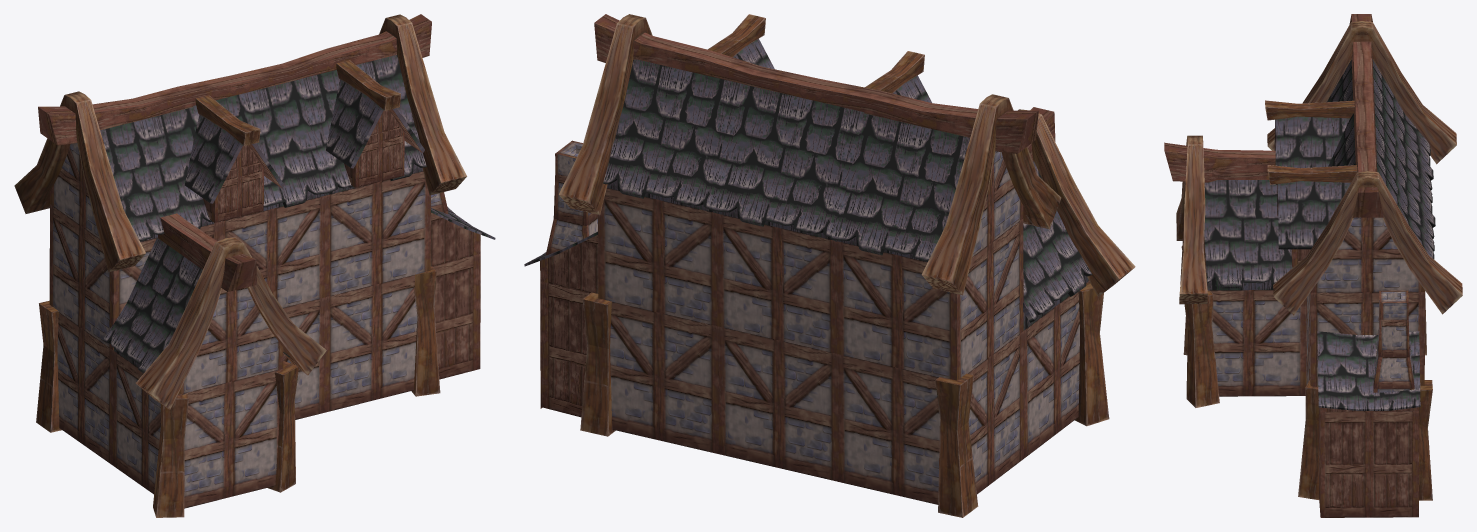
Rendered from house07.fbx.
3 views of the same model, side by side, from view 1: azimuth 30°, elevation 25°; view 2: azimuth 150°, elevation 25°; view 3: azimuth 270°, elevation 25° (orthographic). The views are drawn at different scales.
Parts seen in each view (by area): view 1: house07; view 2: house07; view 3: house07.
Part boxes in pixels (<box>): house07: <box>14,14,495,517</box>; house07: <box>524,14,1135,517</box>; house07: <box>1164,14,1462,517</box>.
Bounding box in the file's own units: 599 × 472 × 391.
